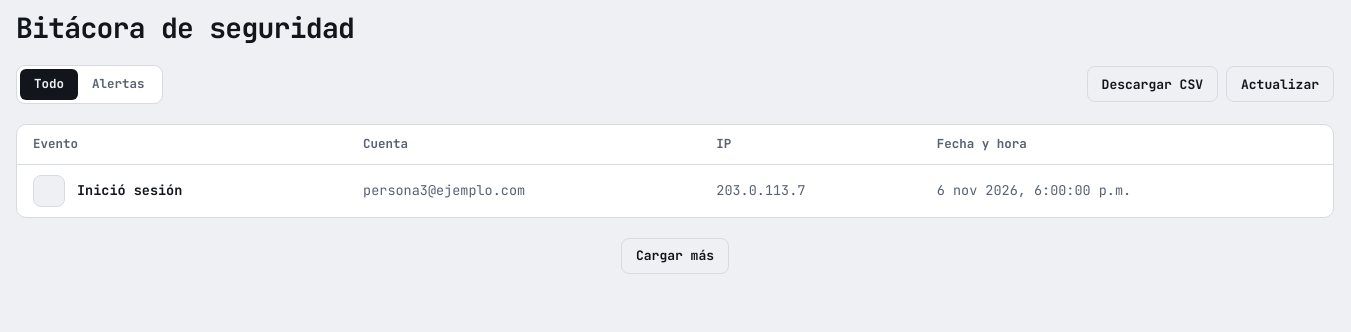
Scenario: PaginaBitacora › avisa si falla cargar más y conserva lo que ya se veía
The width and height of the screenshot is (1351, 332).
What coordinates should you click on to do the following:
click the button "Cargar más"
I would click on:
 (675, 256)
Its box is [621,238,729,274].
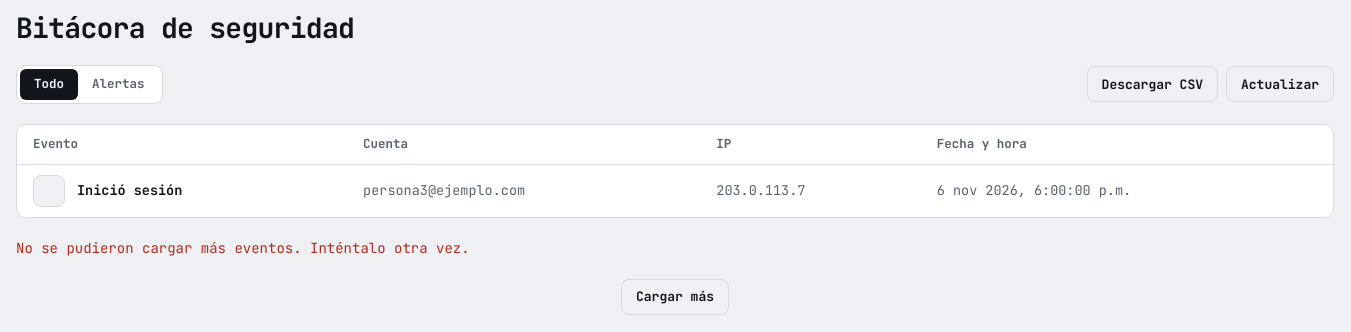
Expected: the text "persona3@ejemplo.com" is shown, [347,164,700,216]
Expected: the message shows "No se pudieron cargar más eventos", [16,238,470,256]
